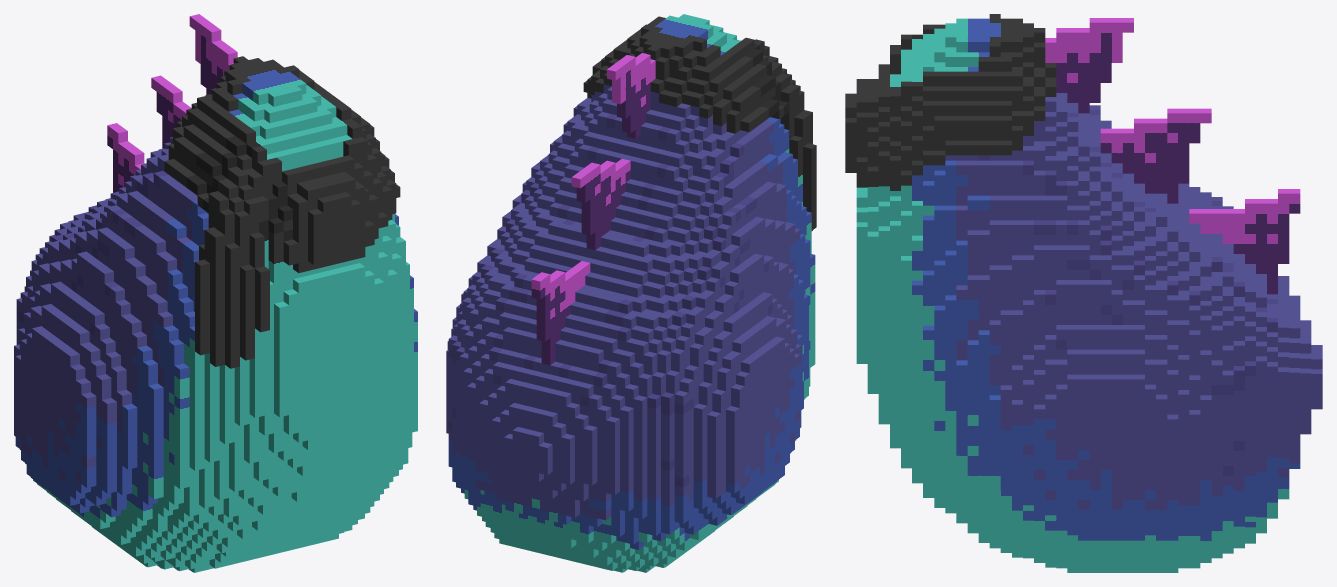
Rendered from black scarf.gltf.
3 views of the same model, side by side, from view 1: azimuth 30°, elevation 25°; view 2: azimuth 150°, elevation 25°; view 3: azimuth 270°, elevation 25° (orthographic). The views are drawn at different scales.
Visible parts, largest first — view 1: 03_Body_BlackScarf-Mesh; view 2: 03_Body_BlackScarf-Mesh; view 3: 03_Body_BlackScarf-Mesh.
Part boxes in pixels (x1,y1,x2,y2): 03_Body_BlackScarf-Mesh: (14,14,417,572); 03_Body_BlackScarf-Mesh: (446,14,816,572); 03_Body_BlackScarf-Mesh: (845,14,1322,572).
Size of the model in its own units: 33 by 51 by 43.
1 material, 1 textured.
